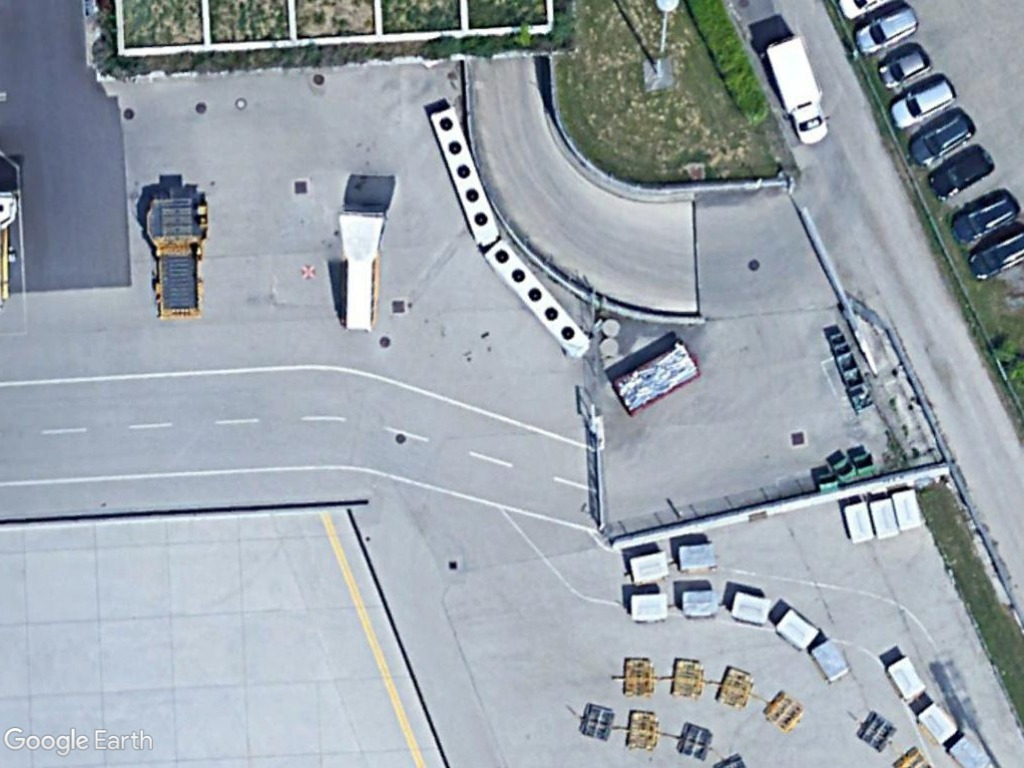car: (906, 107, 979, 171), (945, 189, 1024, 247), (922, 143, 998, 200), (886, 73, 960, 131), (850, 5, 927, 58), (867, 35, 936, 91)
stairtruck: (329, 203, 392, 335)
van: (761, 28, 833, 147)
